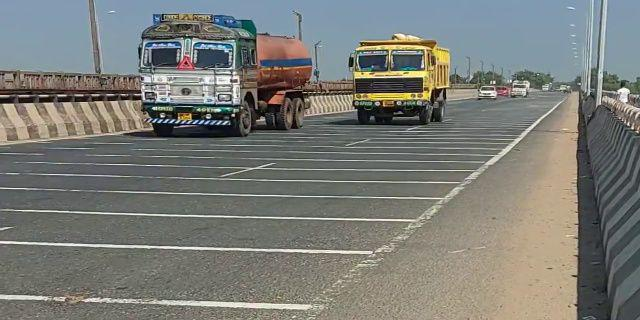Truck: (137, 11, 314, 140), (347, 33, 451, 129)
